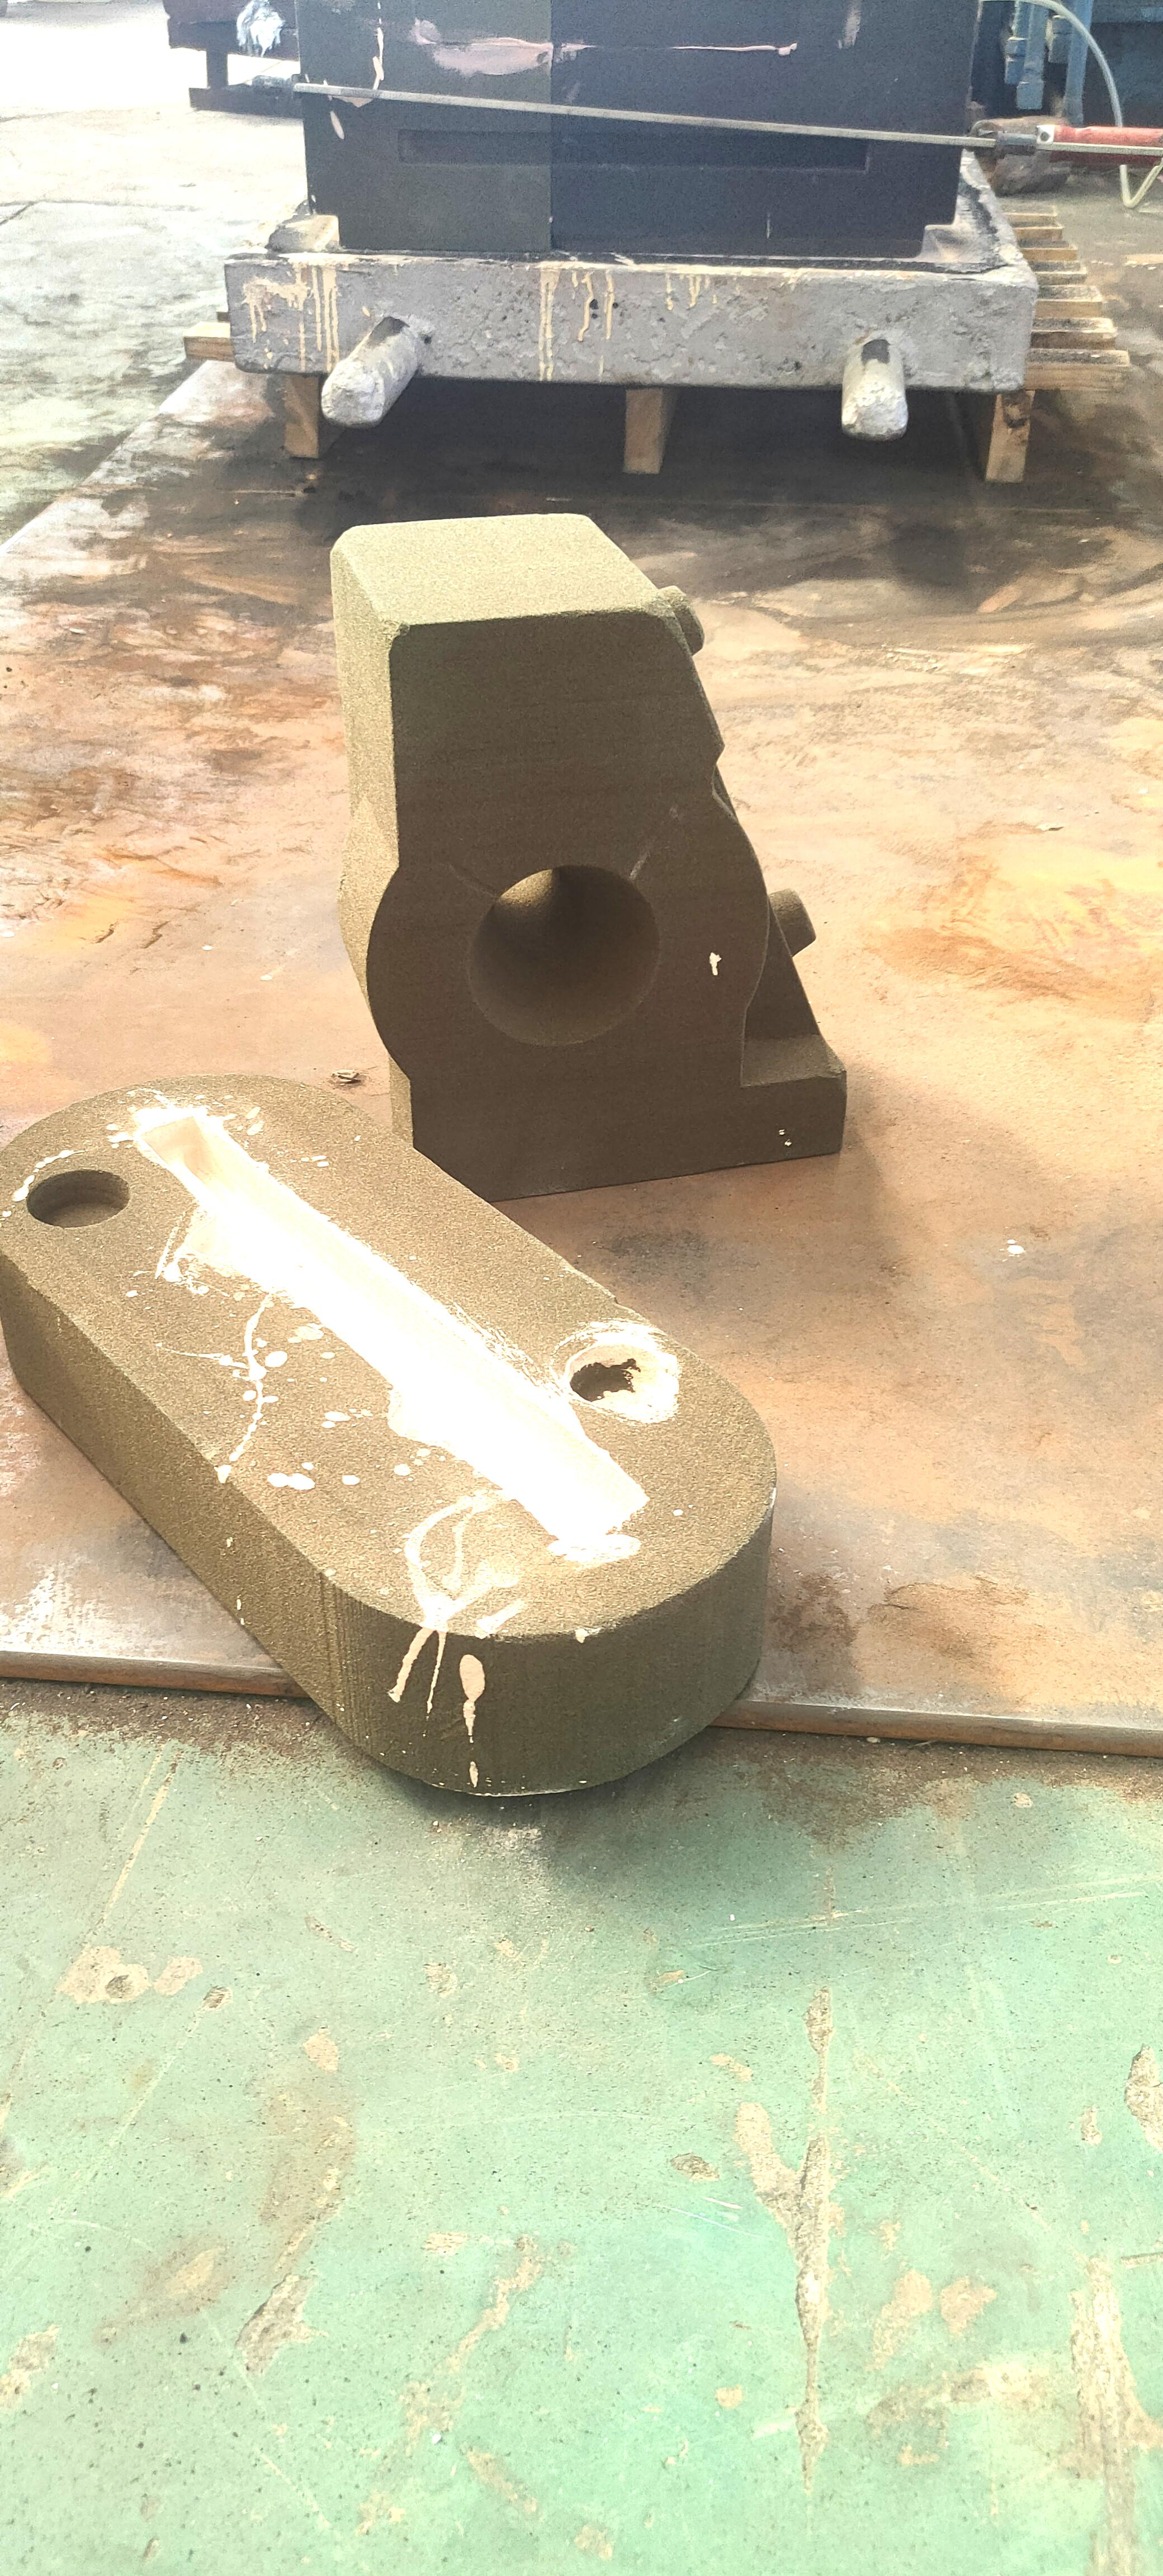pouring hole: (468, 866, 662, 1048)
